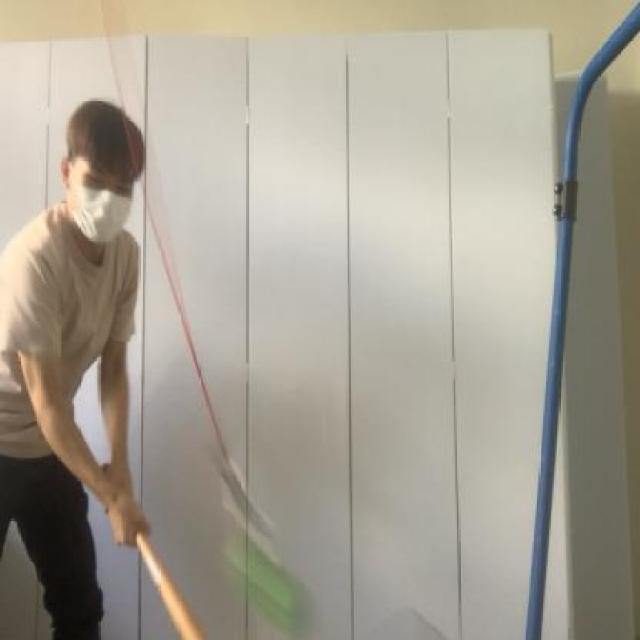baseball: (213, 512, 318, 637)
